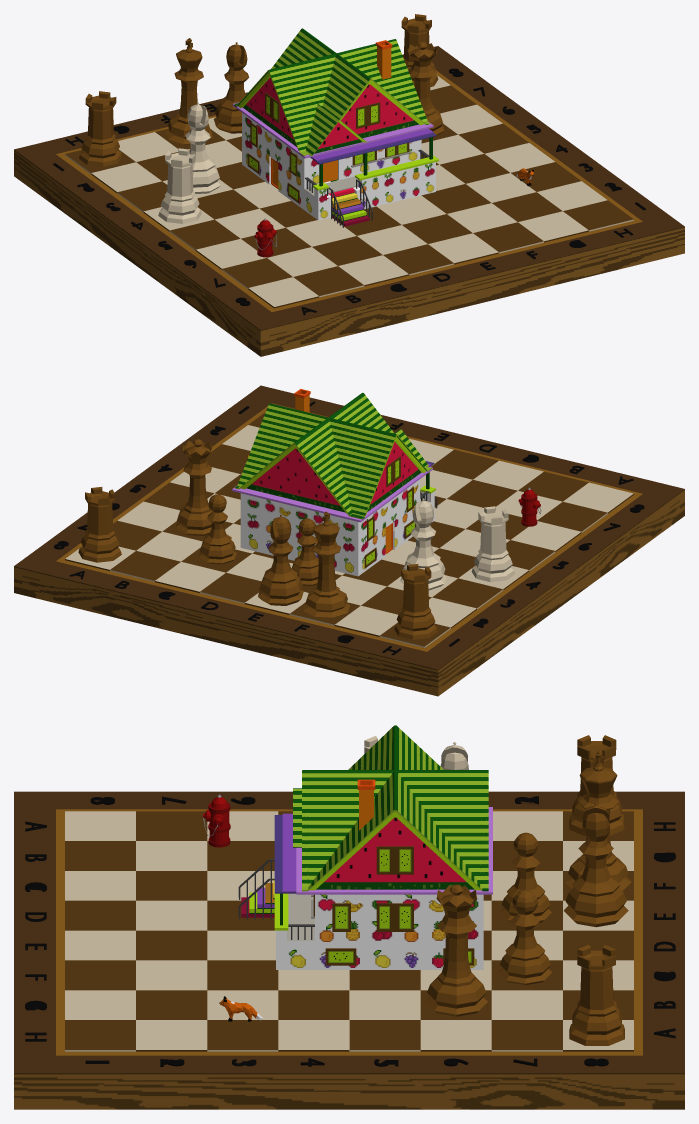
3 views of the same model, one above another, from view 1: azimuth 30°, elevation 25°; view 2: azimuth 150°, elevation 25°; view 3: azimuth 270°, elevation 25° (orthographic). The views are drawn at different scales.
Parts seen in each view (by area): view 1: Cube.002, Cube.1063, OBJRANDOM_FIRE_HYDRANT; view 2: Cube.002, Cube.1063, OBJRANDOM_FIRE_HYDRANT; view 3: Cube.002, Cube.1063, OBJRANDOM_FIRE_HYDRANT.
Boxes of the visible parts, <box> form: Cube.002: <box>14,14,684,356</box>; Cube.1063: <box>232,28,438,227</box>; OBJRANDOM_FIRE_HYDRANT: <box>254,218,276,257</box>; Cube.002: <box>14,385,684,696</box>; Cube.1063: <box>232,389,437,576</box>; OBJRANDOM_FIRE_HYDRANT: <box>518,487,541,526</box>; Cube.002: <box>14,735,684,1109</box>; Cube.1063: <box>238,725,492,969</box>; OBJRANDOM_FIRE_HYDRANT: <box>203,794,230,847</box>.
Bounding box in the file's own units: 3981 × 1488 × 4012.
Materials: 24 (4 with a texture image).
